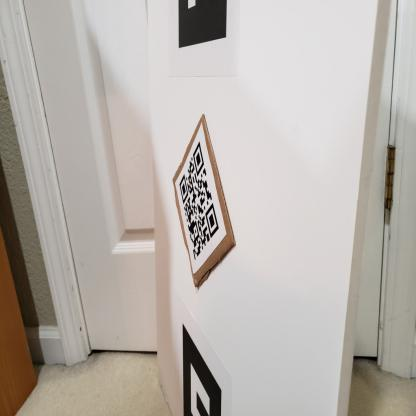qr: (176, 145, 227, 258)
